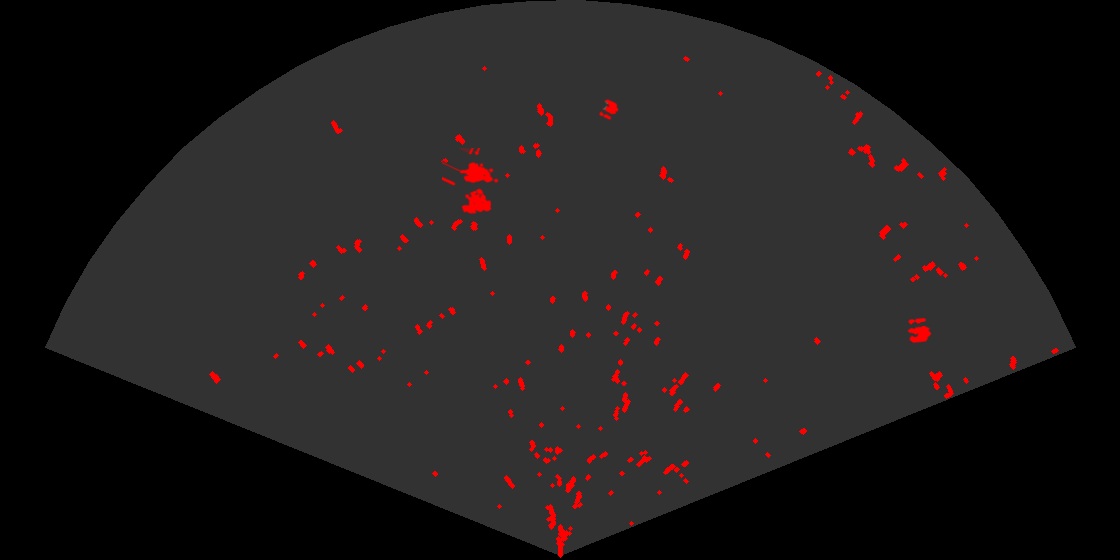ball: (906, 316, 933, 344), (597, 97, 620, 122)
cage: (442, 148, 500, 216)
